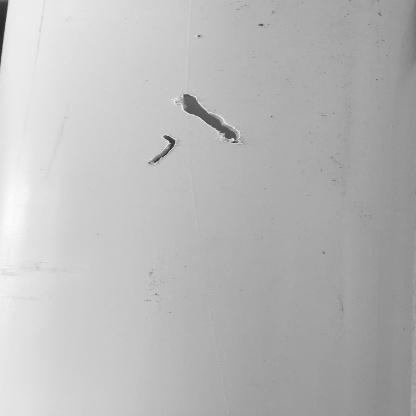fengxi: (153, 131, 176, 170)
sunshang: (174, 80, 253, 145)
